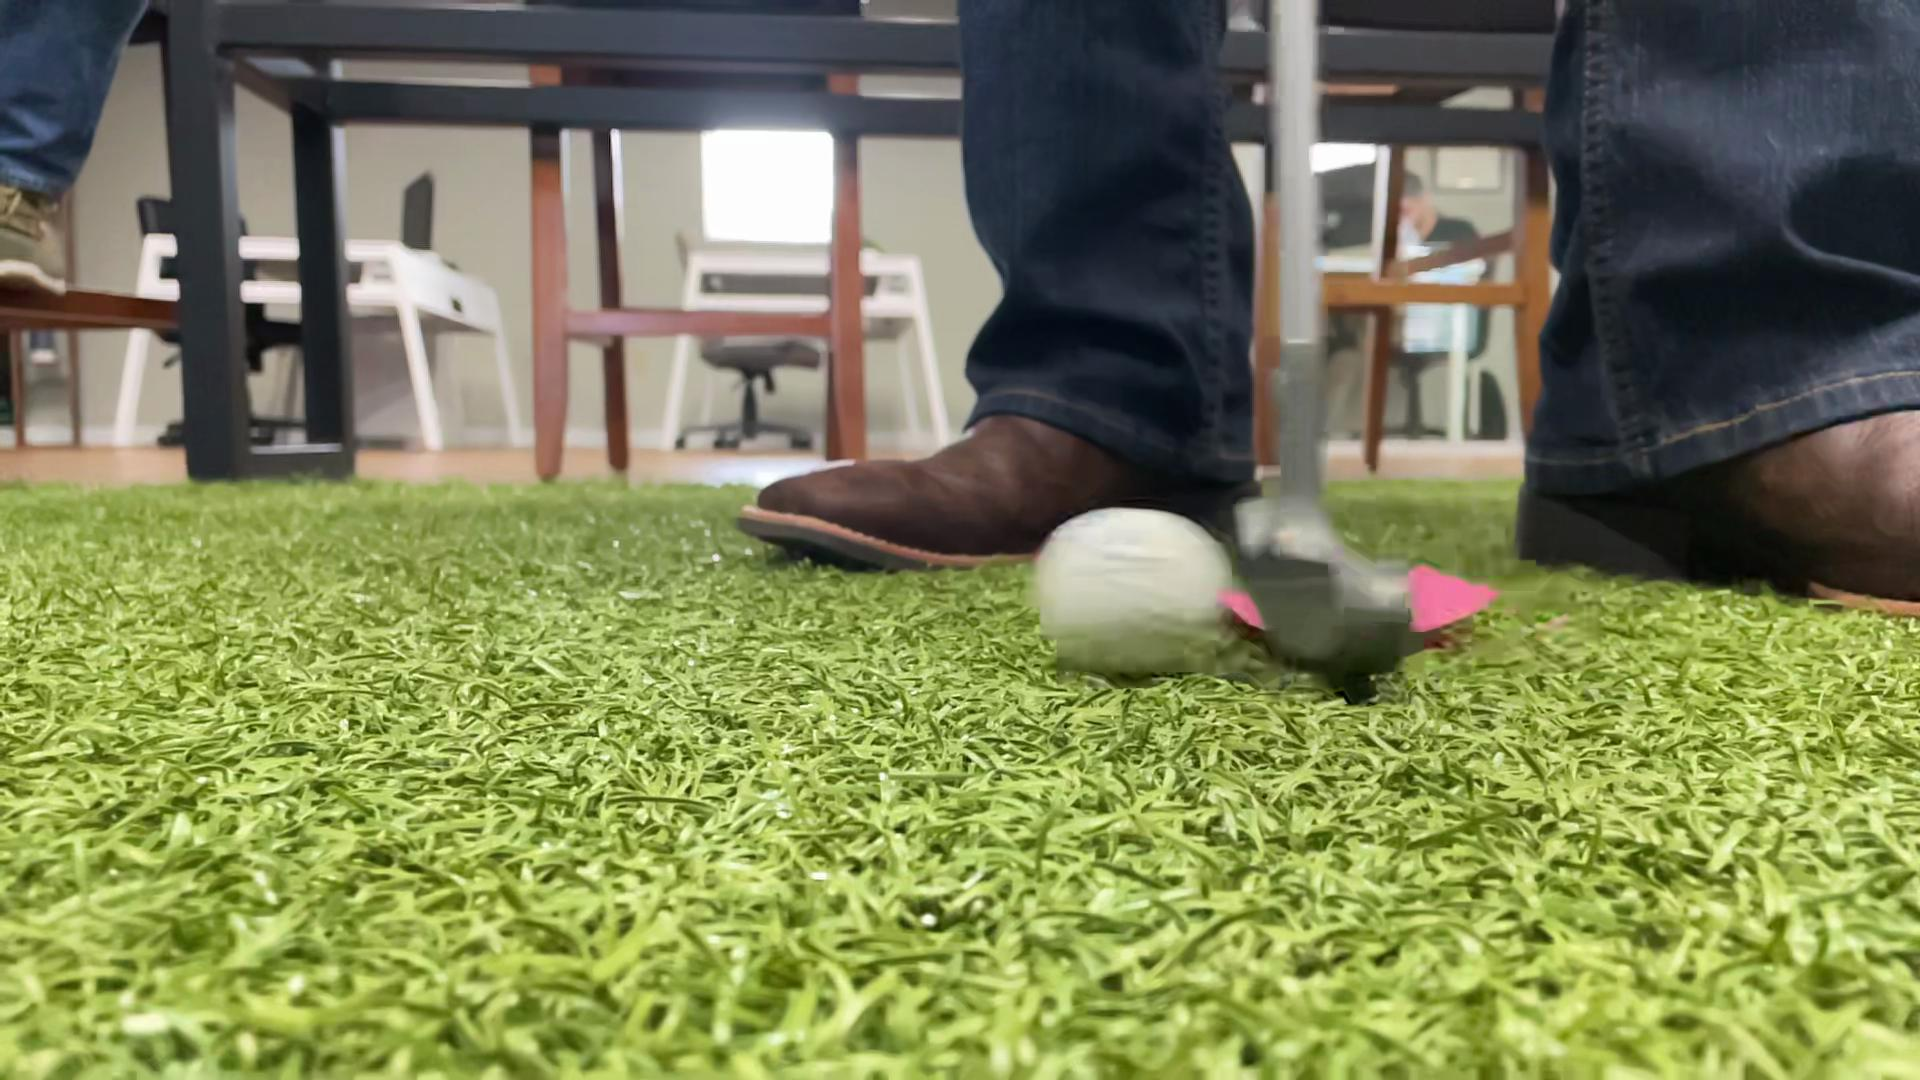golfball: (1033, 508, 1231, 673)
